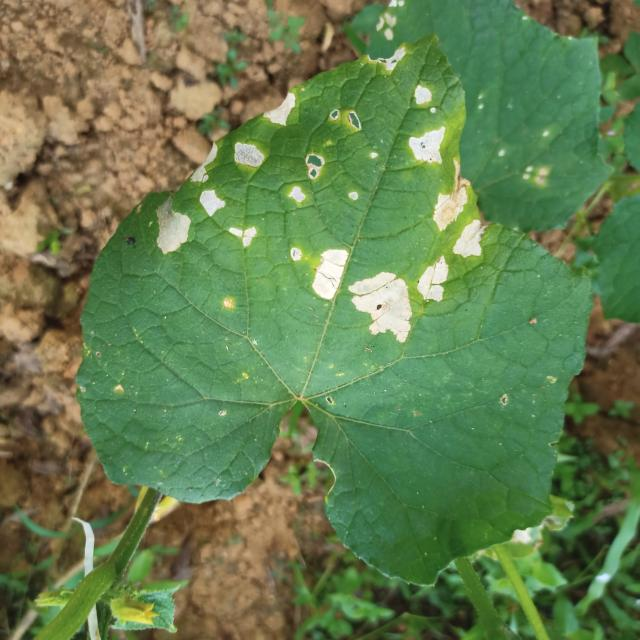disease_cucumber: (308, 246, 414, 348), (148, 183, 260, 256), (428, 184, 486, 262), (404, 77, 445, 167), (280, 152, 332, 203), (417, 256, 453, 304), (264, 91, 303, 129), (231, 138, 272, 172)
